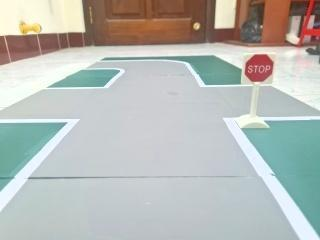stop: (240, 50, 281, 89)
